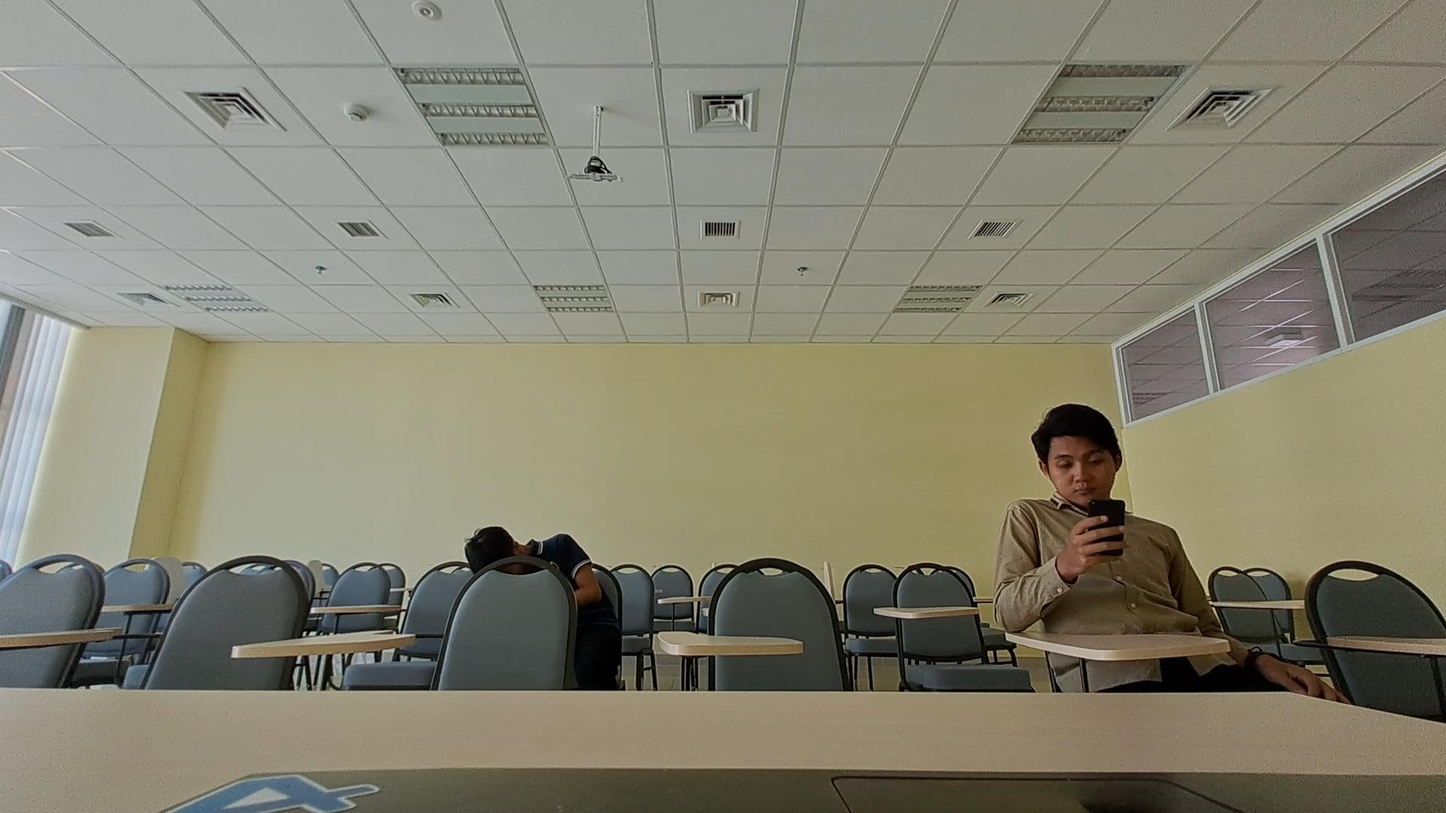phone: (979, 397, 1220, 632)
sleep: (458, 506, 601, 602)
